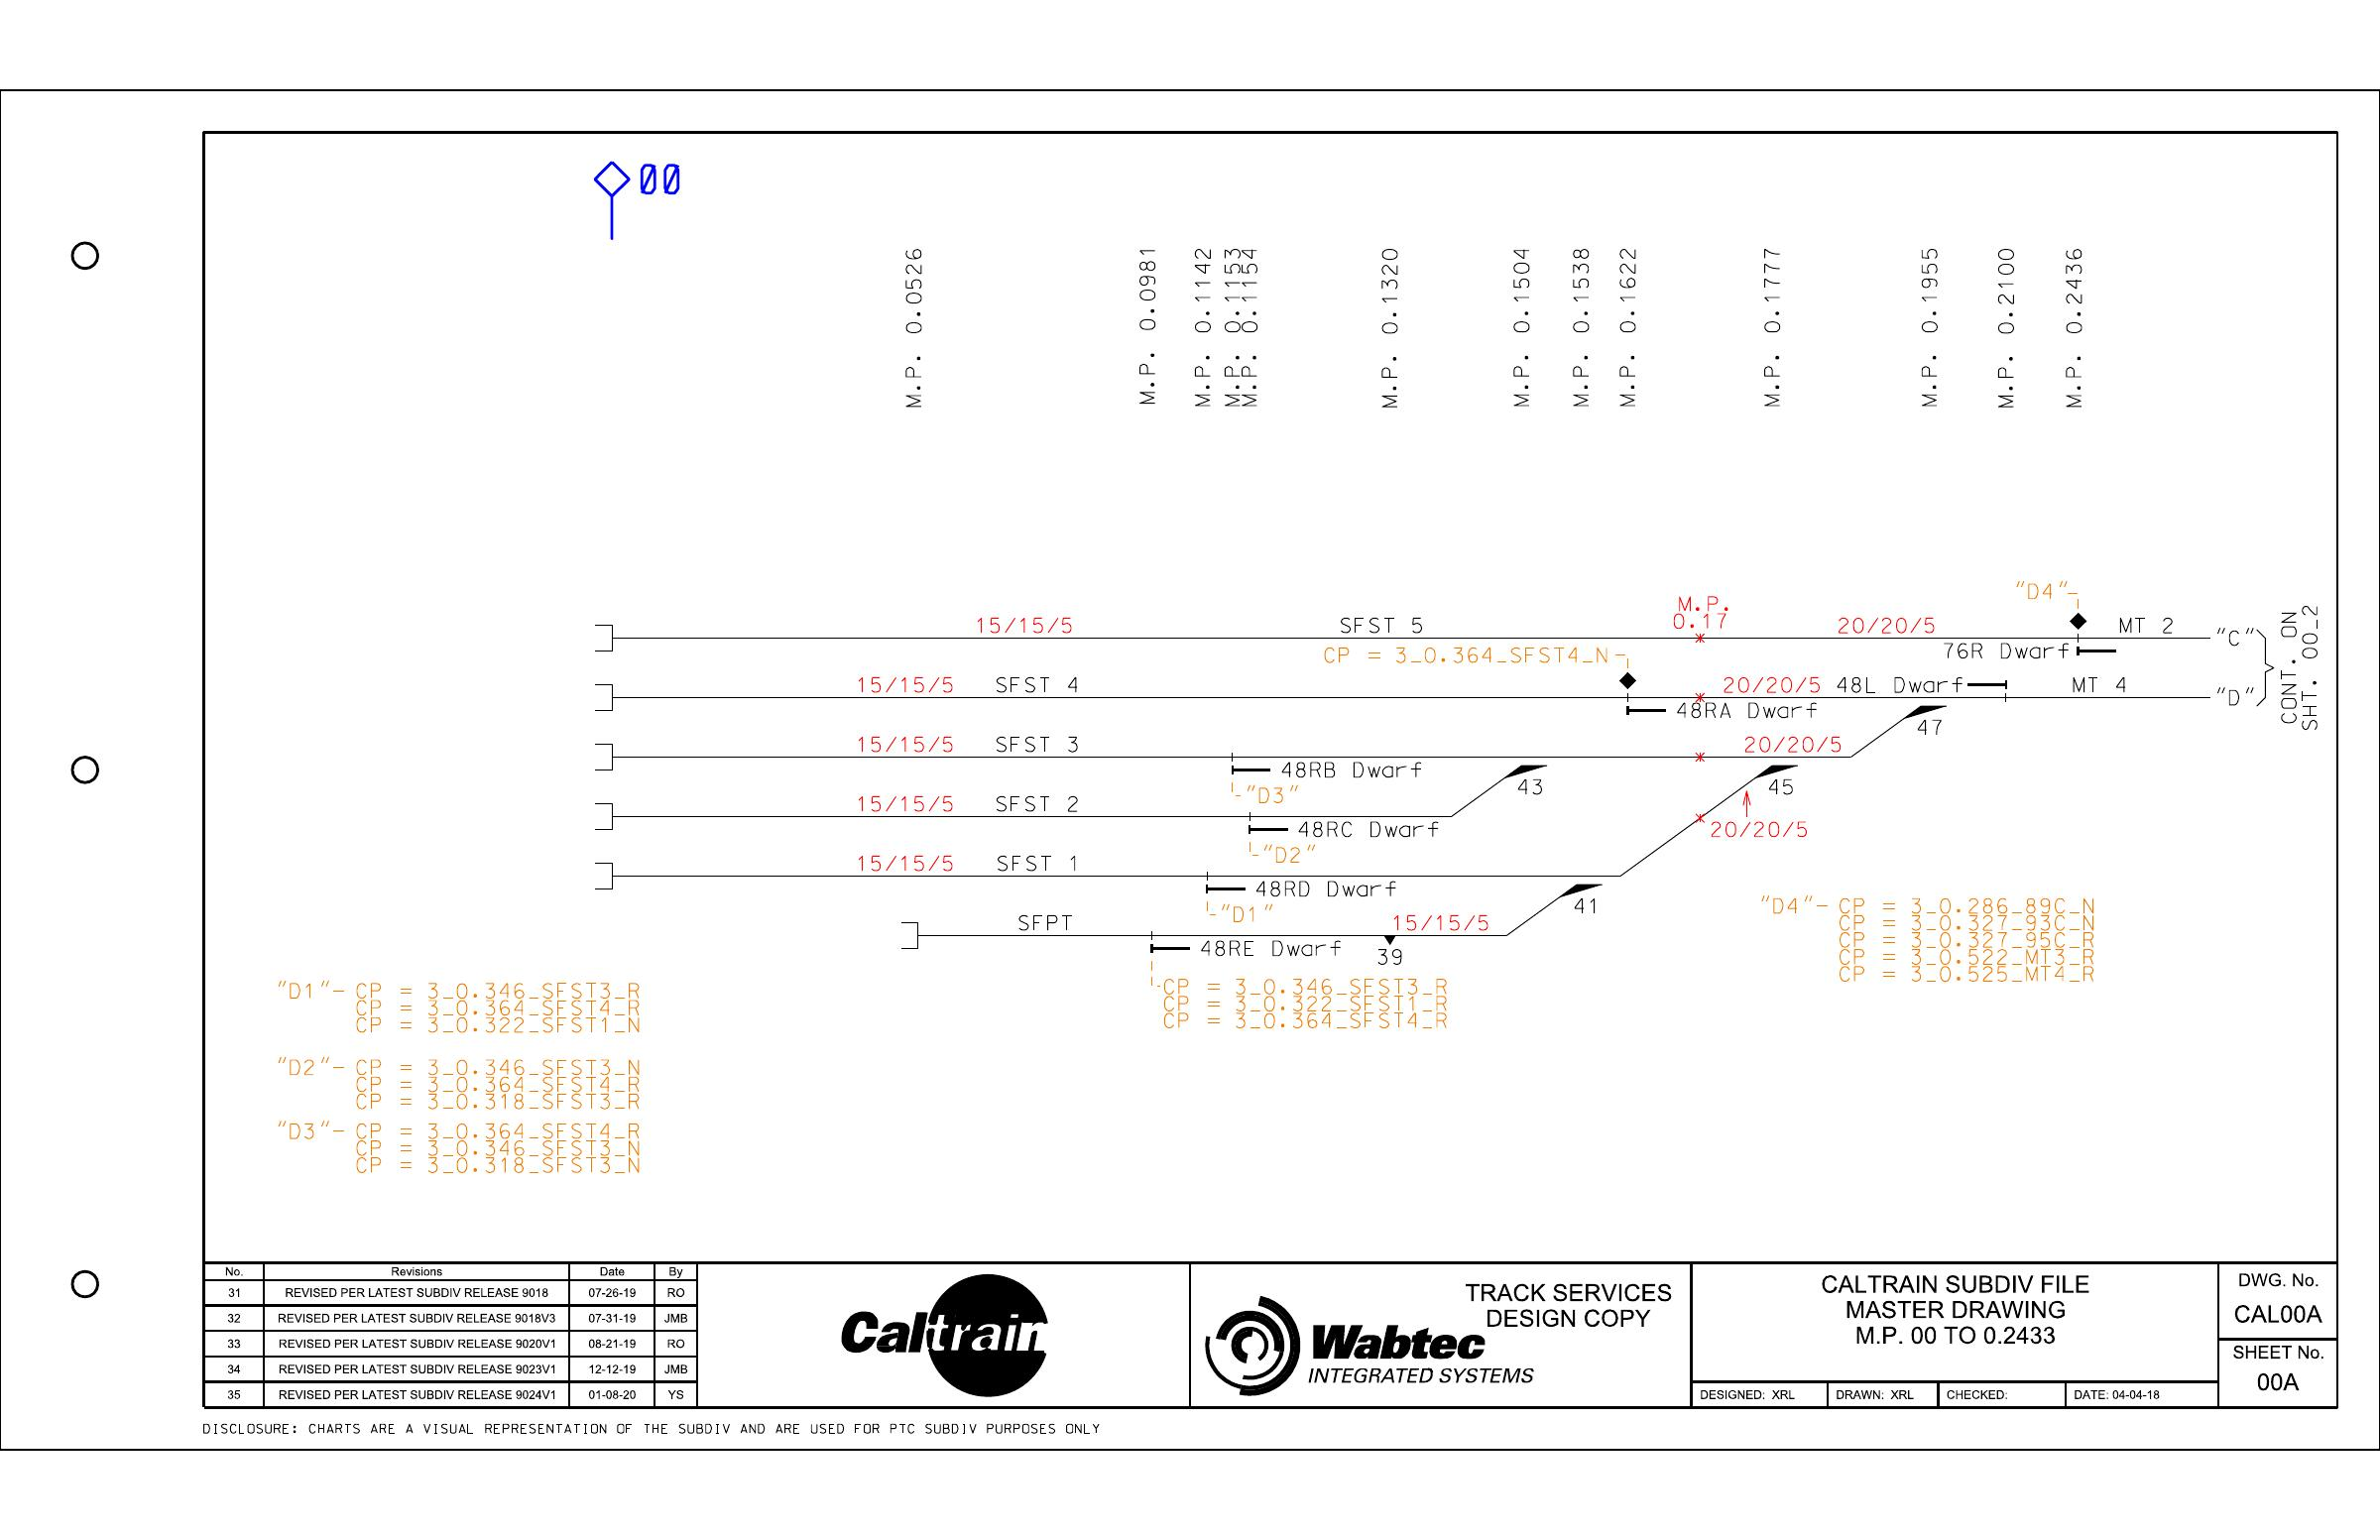milepost: (1905, 232, 1950, 446), (1747, 229, 1788, 437), (2052, 231, 2092, 446), (892, 231, 937, 416), (1559, 236, 1599, 432), (1126, 232, 1167, 420), (1605, 231, 1643, 432), (1988, 232, 2023, 447), (1501, 232, 1539, 427), (1367, 236, 1407, 421), (1181, 236, 1218, 425)
signal: (1225, 744, 1443, 786), (1242, 806, 1447, 846), (1617, 690, 1835, 727), (1835, 669, 2017, 713), (1195, 867, 1409, 902), (1147, 930, 1353, 962), (1939, 630, 2123, 661)
switch: (1905, 699, 1953, 758), (1750, 758, 1804, 810), (1558, 879, 1610, 930), (1506, 758, 1553, 805)
